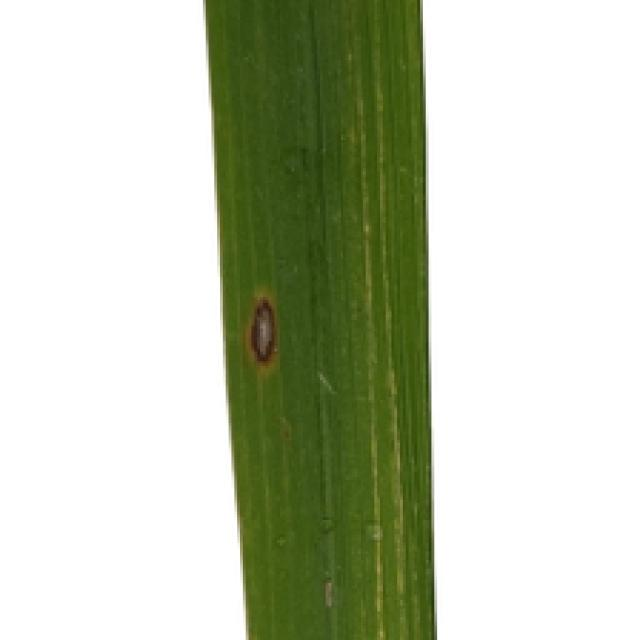Rice___Rice_Blast: (200, 0, 437, 637)
